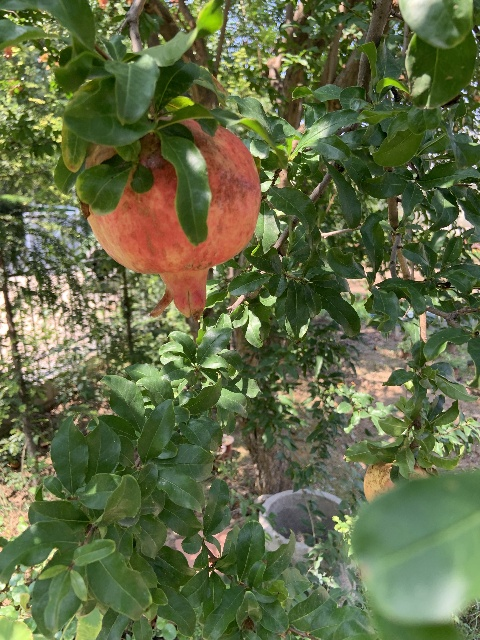ripe: (85, 117, 260, 320)
